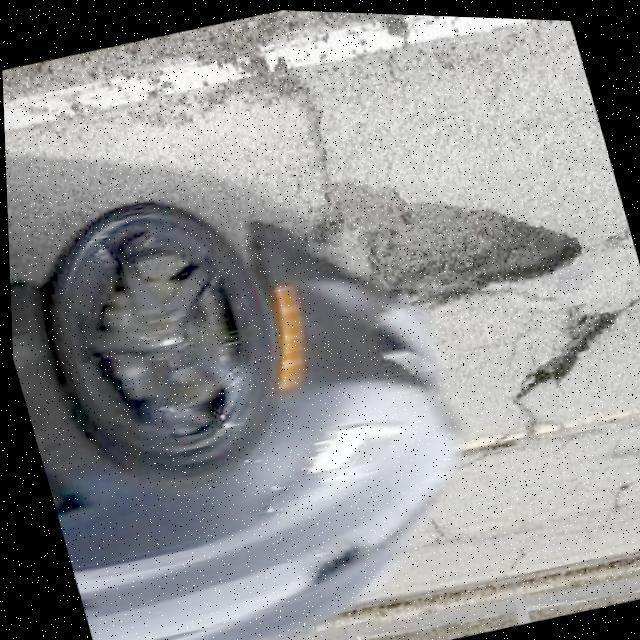pothole: (304, 132, 592, 336), (489, 288, 635, 401)
